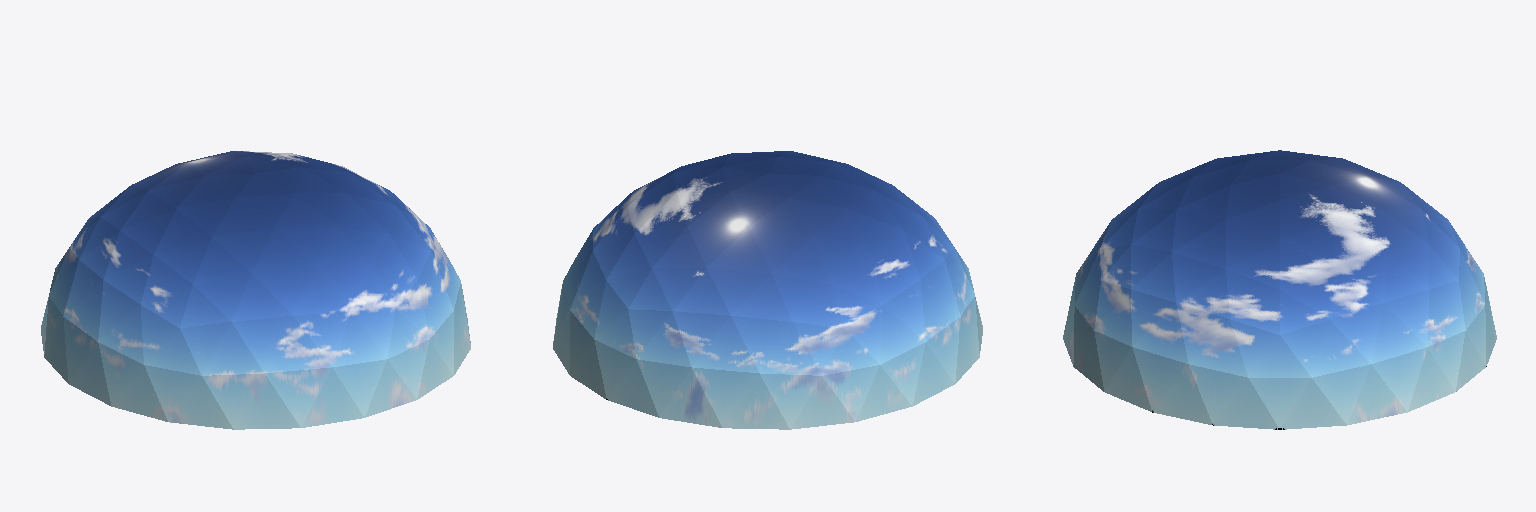
3 views of the same model, side by side, from view 1: azimuth 30°, elevation 25°; view 2: azimuth 150°, elevation 25°; view 3: azimuth 270°, elevation 25° (orthographic).
Parts seen in each view (by area): view 1: sky; view 2: sky; view 3: sky.
Boxes of the visible parts, x1,y1,x2,y2 form: sky: [41, 151, 470, 429]; sky: [553, 151, 982, 429]; sky: [1063, 150, 1496, 429].
Bounding box in the file's own units: 42.26 × 17.8 × 42.43.
1 materials, 1 textured.